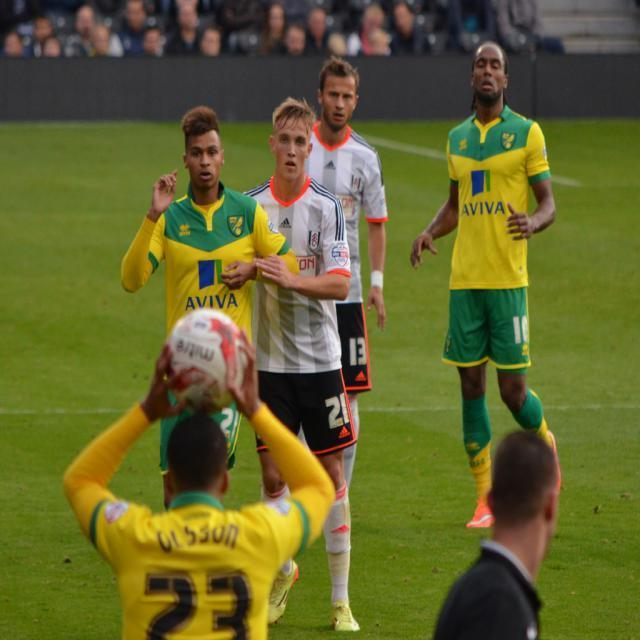football: (149, 291, 258, 424)
